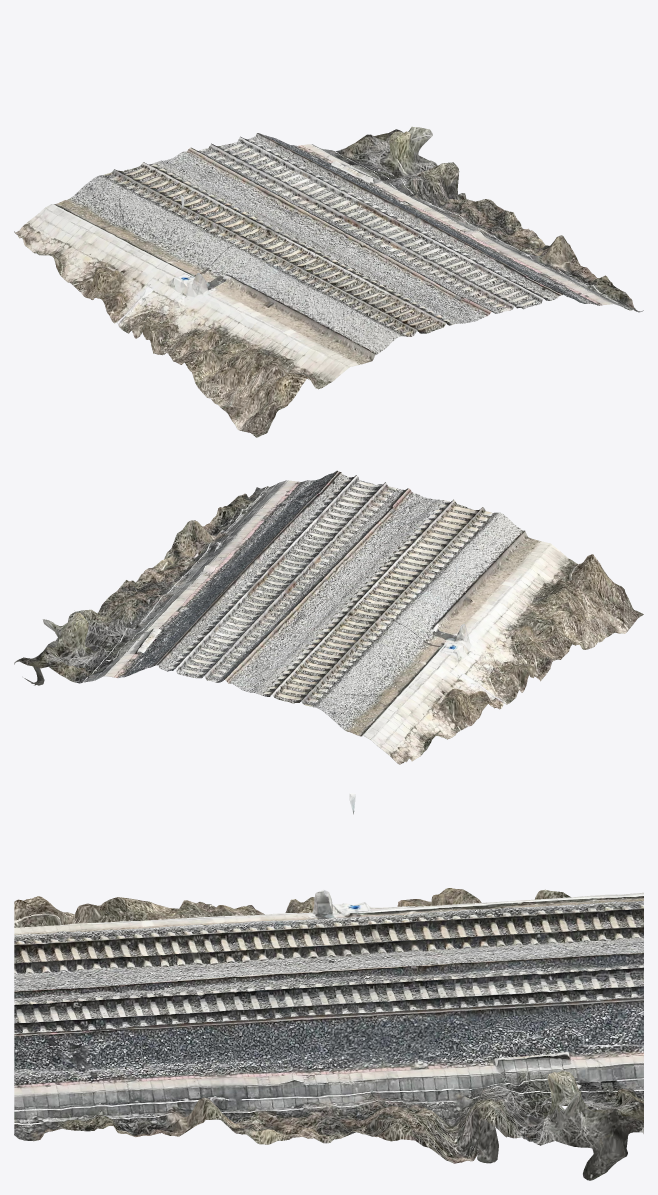
File: Block_L21_748.glb
3 renders of one model, top to bottom at view 1: azimuth 30°, elevation 25°; view 2: azimuth 150°, elevation 25°; view 3: azimuth 270°, elevation 25°, orthographic. The views are drawn at different scales.
Visible parts, largest first — view 1: rtc; view 2: rtc; view 3: rtc.
Part boxes in pixels (left/top/right/bottom): rtc: left=14, top=126, right=643, bottom=437; rtc: left=14, top=470, right=643, bottom=764; rtc: left=14, top=793, right=643, bottom=1180.
Bounding box in the file's own units: 20.25 × 9.16 × 21.97.
6 materials, 6 textured.
